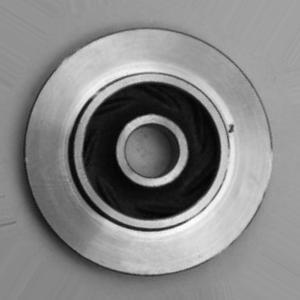defect: (219, 109, 248, 145)
